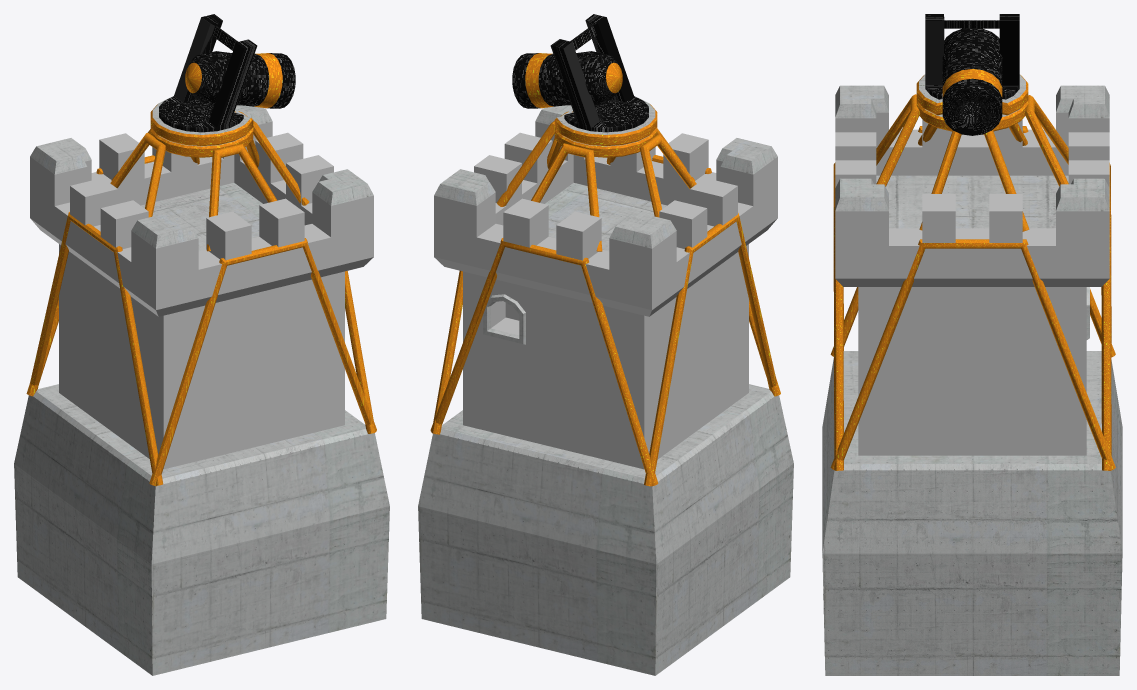
The model's file is tower_turret.FBX.
3 renders of one model, left to right at view 1: azimuth 30°, elevation 25°; view 2: azimuth 150°, elevation 25°; view 3: azimuth 270°, elevation 25°, orthographic. The views are drawn at different scales.
Visible parts, largest first — view 1: tower_turret, turret_swiv, turret_gun; view 2: tower_turret, turret_swiv, turret_gun; view 3: tower_turret, turret_gun, turret_swiv.
Part boxes in pixels (left/top/right/bottom): tower_turret: left=14, top=105, right=389, bottom=675; turret_swiv: left=150, top=14, right=257, bottom=145; turret_gun: left=185, top=51, right=295, bottom=108; tower_turret: left=418, top=105, right=793, bottom=675; turret_swiv: left=550, top=14, right=657, bottom=145; turret_gun: left=512, top=51, right=622, bottom=108; tower_turret: left=822, top=85, right=1122, bottom=675; turret_gun: left=942, top=28, right=1002, bottom=135; turret_swiv: left=916, top=14, right=1028, bottom=115.
Bounding box in the file's own units: 15 × 33.68 × 15.
